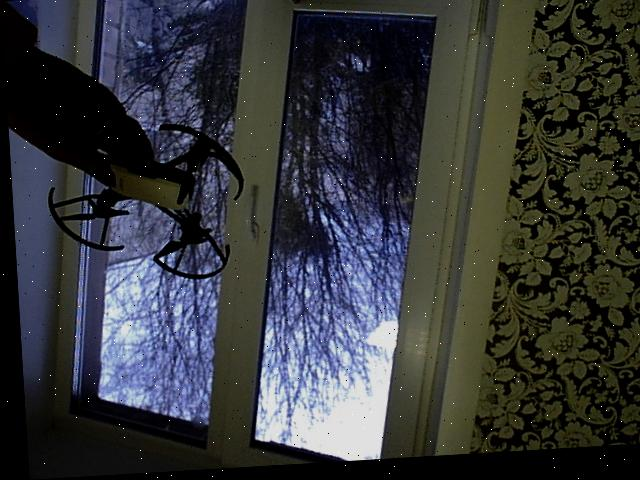drone: (32, 93, 254, 293)
